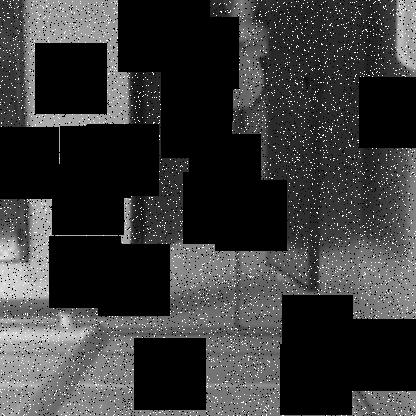Porte: (126, 0, 322, 296)
